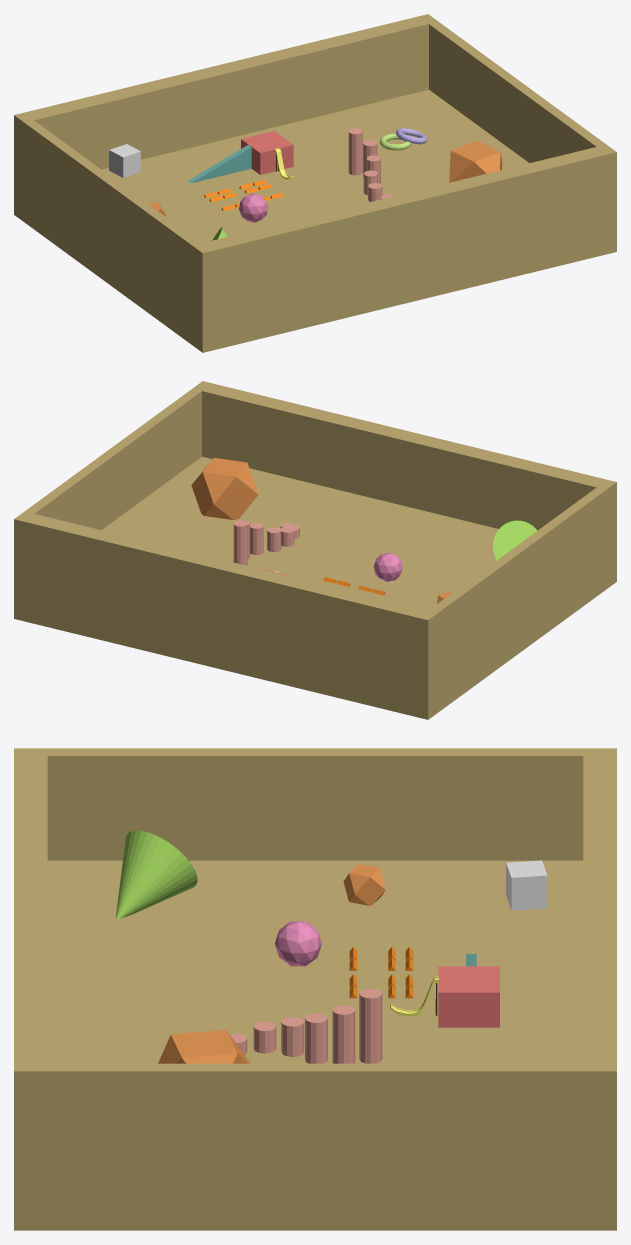
File: playground.fbx
3 renders of one model, top to bottom at view 1: azimuth 30°, elevation 25°; view 2: azimuth 150°, elevation 25°; view 3: azimuth 270°, elevation 25°, orthographic. The views are drawn at different scales.
Visible parts, largest first — view 1: Cube.001, Cube.003, Cube, Cube.002, Cube.004, Cylinder.012, Icosphere, Cylinder.009; view 2: Cube.001, Cube.003, Cone, Icosphere, Cylinder.012; view 3: Cube.001, Cone, Cube, Cube.003, Cube.004, Cylinder.012, Icosphere, Cylinder.013, Cube.005, Cylinder.009, Cylinder.014, Cylinder.015 (+1 smaller).
Part boxes in pixels (left/top/right/bottom): Cube.001: left=14, top=14, right=616, bottom=352; Cube.003: left=449, top=141, right=502, bottom=182; Cube: left=241, top=131, right=293, bottom=174; Cube.002: left=187, top=145, right=251, bottom=183; Cube.004: left=109, top=144, right=140, bottom=177; Cylinder.012: left=348, top=128, right=362, bottom=175; Icosphere: left=239, top=193, right=267, bottom=222; Cylinder.009: left=204, top=180, right=283, bottom=210; Cube.001: left=14, top=381, right=616, bottom=719; Cube.003: left=191, top=458, right=258, bottom=519; Cone: left=493, top=520, right=537, bottom=560; Icosphere: left=374, top=552, right=402, bottom=581; Cylinder.012: left=233, top=520, right=247, bottom=565; Cube.001: left=14, top=748, right=616, bottom=1230; Cone: left=116, top=830, right=197, bottom=918; Cube: left=438, top=966, right=499, bottom=1027; Cube.003: left=158, top=1029, right=250, bottom=1063; Cube.004: left=506, top=860, right=547, bottom=910; Cylinder.012: left=359, top=989, right=382, bottom=1063; Icosphere: left=274, top=921, right=321, bottom=966; Cylinder.013: left=332, top=1005, right=355, bottom=1063; Cube.005: left=343, top=864, right=385, bottom=905; Cylinder.009: left=349, top=947, right=413, bottom=998; Cylinder.014: left=305, top=1013, right=327, bottom=1063; Cylinder.015: left=281, top=1017, right=304, bottom=1056.
Bounding box in the file's own units: 41768 × 13995 × 32972.
